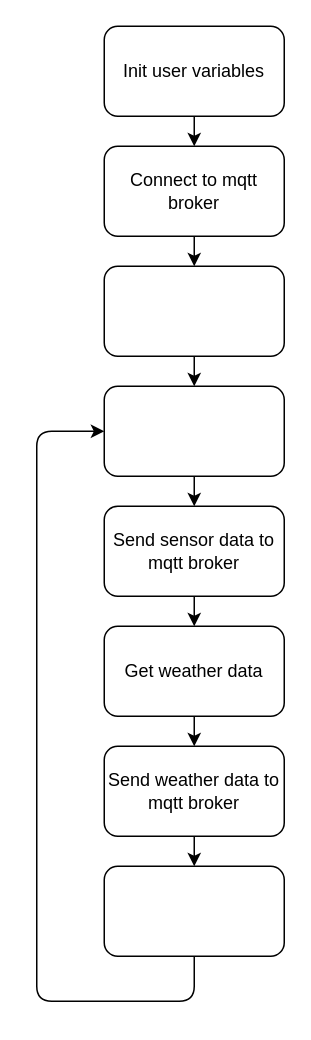
The diagram is 311 pixels wide and 1040 high, and some of its shapes have lost their labels. The centre of each missing label's shape, as x and y in pixels:
"Configure sensor" goes at point 193,310.
"Get data from sensor" goes at point 193,430.
"Wait periode of time" goes at point 193,910.
